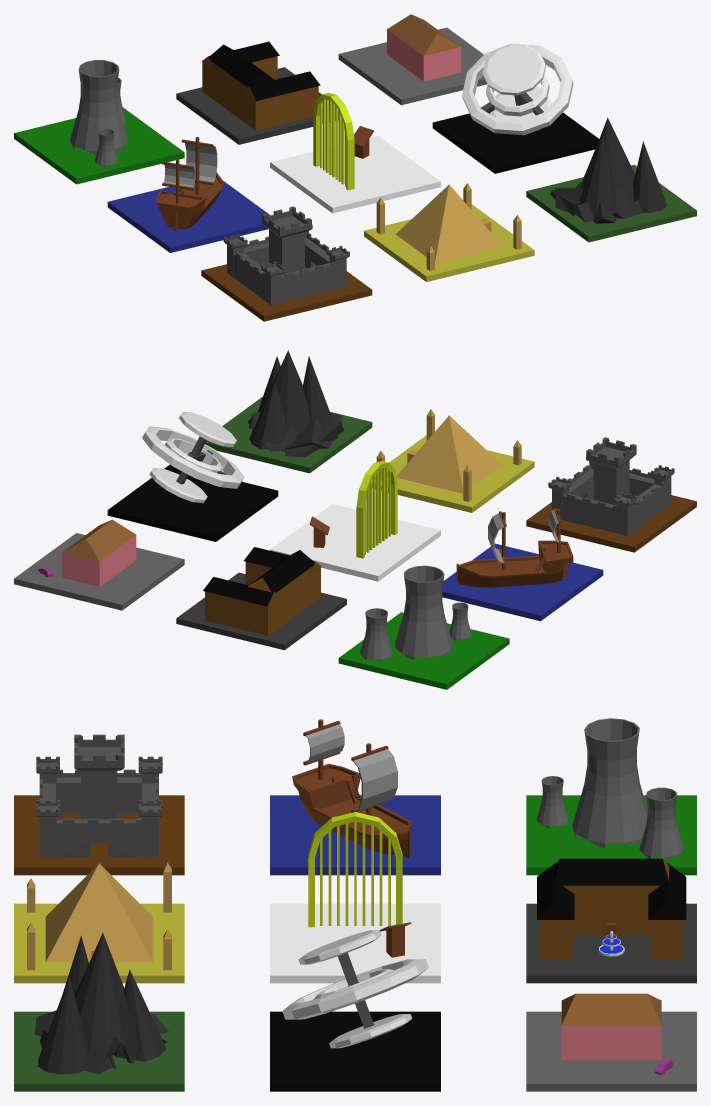
File: _maps_diorama.fbx
The picture shows the model from 3 angles, top to bottom: view 1: azimuth 30°, elevation 25°; view 2: azimuth 150°, elevation 25°; view 3: azimuth 270°, elevation 25°; orthographic projection. The views are drawn at different scales.
Visible parts, largest first — view 1: 8_Space, 3_Medieval, 5_Tchernobyl, 9_Heaven, 6_Asylum, 1_Cavern, 4_Ship, 2_Egypt, 7_House; view 2: 8_Space, 5_Tchernobyl, 3_Medieval, 6_Asylum, 1_Cavern, 9_Heaven, 4_Ship, 7_House, 2_Egypt; view 3: 6_Asylum, 3_Medieval, 8_Space, 1_Cavern, 4_Ship, 5_Tchernobyl, 7_House, 9_Heaven, 2_Egypt.
Boxes of the visible parts, left/top/right/bottom form: 8_Space: left=432, top=43, right=599, bottom=173; 3_Medieval: left=201, top=206, right=372, bottom=321; 5_Tchernobyl: left=14, top=60, right=184, bottom=184; 9_Heaven: left=270, top=93, right=440, bottom=213; 6_Asylum: left=176, top=41, right=338, bottom=144; 1_Cavern: left=526, top=117, right=696, bottom=242; 4_Ship: left=107, top=137, right=270, bottom=252; 2_Egypt: left=364, top=183, right=534, bottom=281; 7_House: left=338, top=14, right=486, bottom=105; 8_Space: left=107, top=411, right=278, bottom=541; 5_Tchernobyl: left=338, top=565, right=509, bottom=689; 3_Medieval: left=526, top=437, right=696, bottom=552; 6_Asylum: left=176, top=547, right=346, bottom=650; 1_Cavern: left=205, top=350, right=372, bottom=473; 9_Heaven: left=270, top=461, right=440, bottom=581; 4_Ship: left=442, top=507, right=603, bottom=621; 7_House: left=14, top=519, right=184, bottom=610; 2_Egypt: left=372, top=409, right=534, bottom=512; 6_Asylum: left=526, top=858, right=696, bottom=983; 3_Medieval: left=14, top=734, right=184, bottom=875; 8_Space: left=270, top=930, right=440, bottom=1091; 1_Cavern: left=14, top=933, right=184, bottom=1091; 4_Ship: left=270, top=719, right=440, bottom=875; 5_Tchernobyl: left=526, top=718, right=696, bottom=875; 7_House: left=526, top=993, right=696, bottom=1091; 9_Heaven: left=270, top=812, right=440, bottom=983; 2_Egypt: left=14, top=862, right=184, bottom=983.
Bounding box in the file's own units: 800 × 170 × 800.
